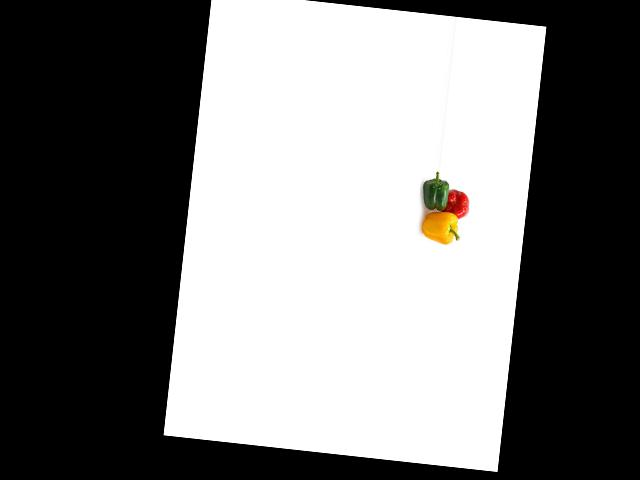bell_pepper: (419, 173, 454, 218)
